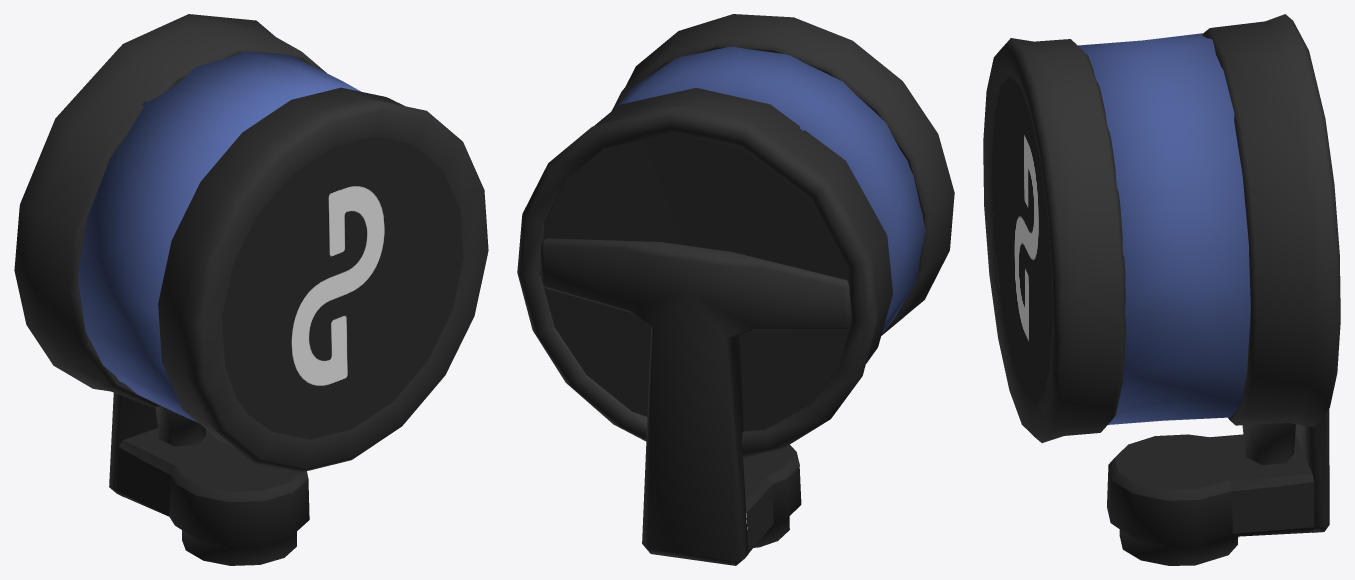
File: ST-LIDAR.dae
3 views of the same model, side by side, from view 1: azimuth 30°, elevation 25°; view 2: azimuth 150°, elevation 25°; view 3: azimuth 270°, elevation 25° (orthographic). The views are drawn at different scales.
Parts seen in each view (by area): view 1: logo cap; view 2: logo cap; view 3: logo cap.
Part boxes in pixels (box(x1,y1,x2,y2)): logo cap: box(14, 14, 488, 565); logo cap: box(517, 14, 954, 565); logo cap: box(983, 14, 1340, 565).
Bounding box in the file's own units: 0.1193 × 0.0939 × 0.145.
1 material, 1 textured.
